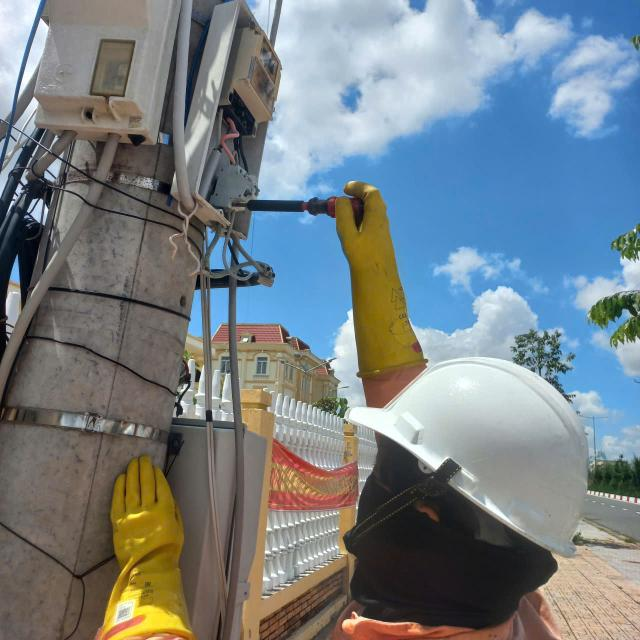gloves: (79, 442, 218, 640), (333, 172, 438, 383)
helmet: (330, 342, 599, 572)
